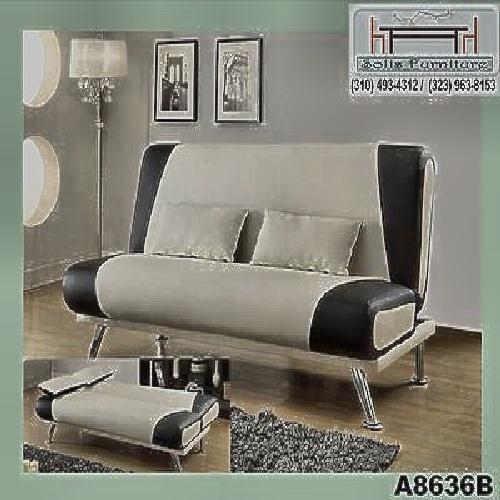fan: (88, 123, 445, 363)
